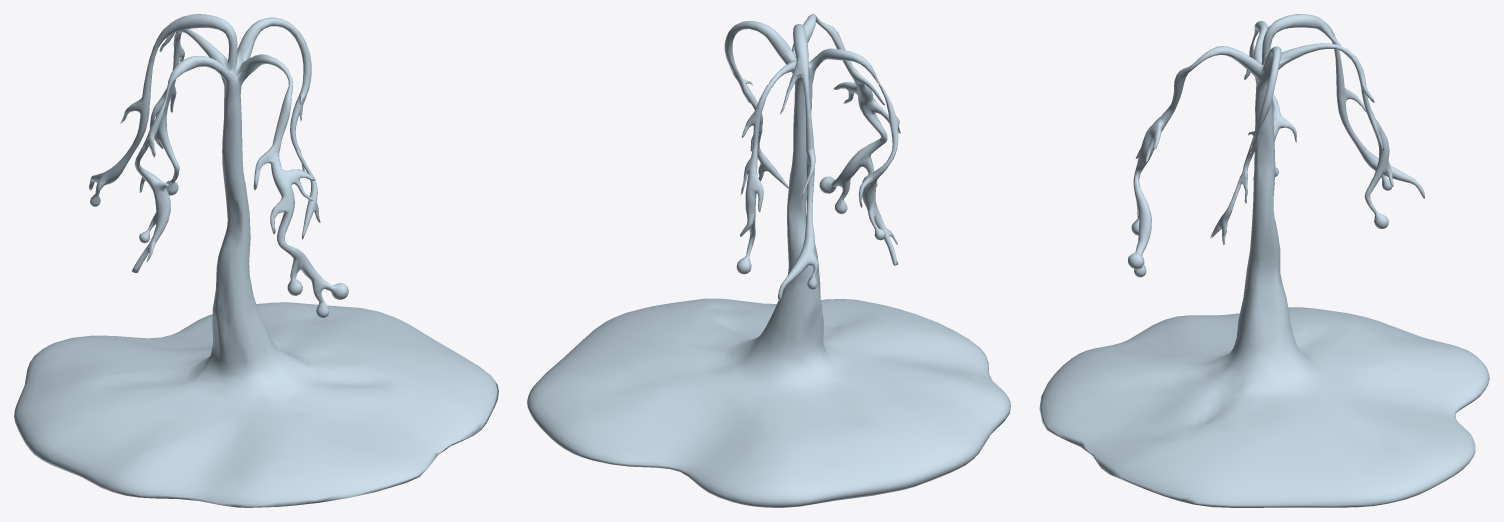
The model's file is Tree.fbx.
The picture shows the model from 3 angles, left to right: view 1: azimuth 30°, elevation 25°; view 2: azimuth 150°, elevation 25°; view 3: azimuth 270°, elevation 25°; orthographic projection. The views are drawn at different scales.
Parts seen in each view (by area): view 1: Tree; view 2: Tree; view 3: Tree.
Boxes of the visible parts, <box> form: Tree: <box>14,14,498,507</box>; Tree: <box>527,14,1010,507</box>; Tree: <box>1039,14,1489,507</box>.
Bounding box in the file's own units: 31.67 × 29.24 × 30.77.
